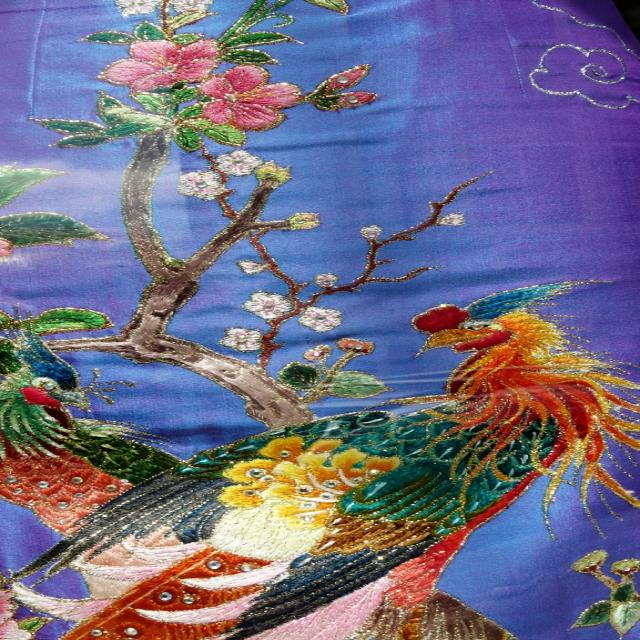Chicken: (398, 290, 618, 519)
